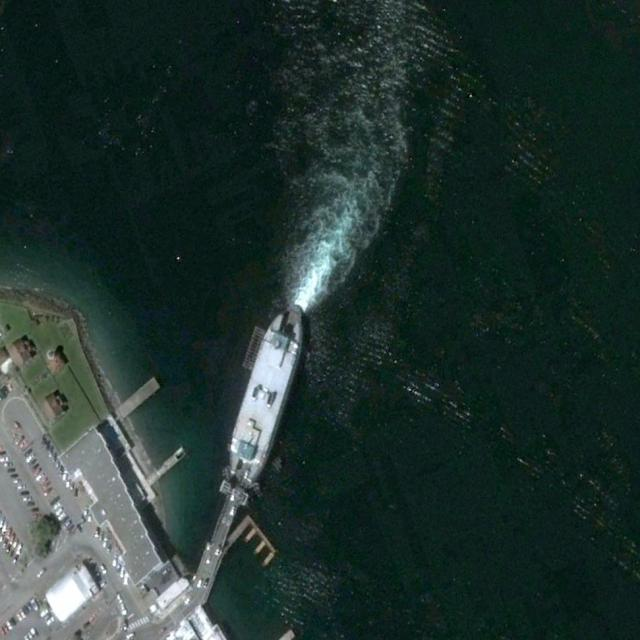RoRo: (221, 293, 311, 490)
